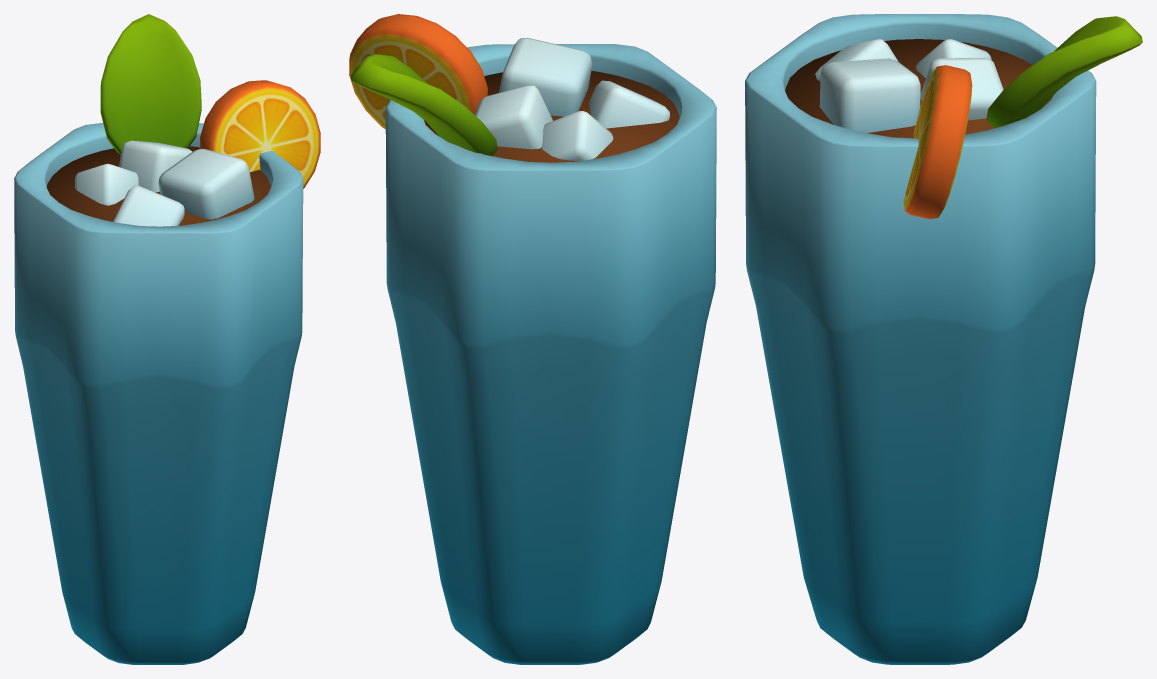
Rendered from Cup_03.fbx.
The picture shows the model from 3 angles, left to right: view 1: azimuth 30°, elevation 25°; view 2: azimuth 150°, elevation 25°; view 3: azimuth 270°, elevation 25°; orthographic projection. The views are drawn at different scales.
Parts seen in each view (by area): view 1: Cup_03, Cup_03_Inside; view 2: Cup_03, Cup_03_Inside; view 3: Cup_03, Cup_03_Inside.
Part boxes in pixels (x1,y1,x2,y2): Cup_03: (14, 123, 303, 664); Cup_03_Inside: (47, 14, 320, 226); Cup_03: (385, 44, 716, 664); Cup_03_Inside: (349, 14, 679, 162); Cup_03: (745, 14, 1096, 664); Cup_03_Inside: (785, 16, 1142, 219).
Size of the model in its own units: 81.07 by 150 by 83.65.
